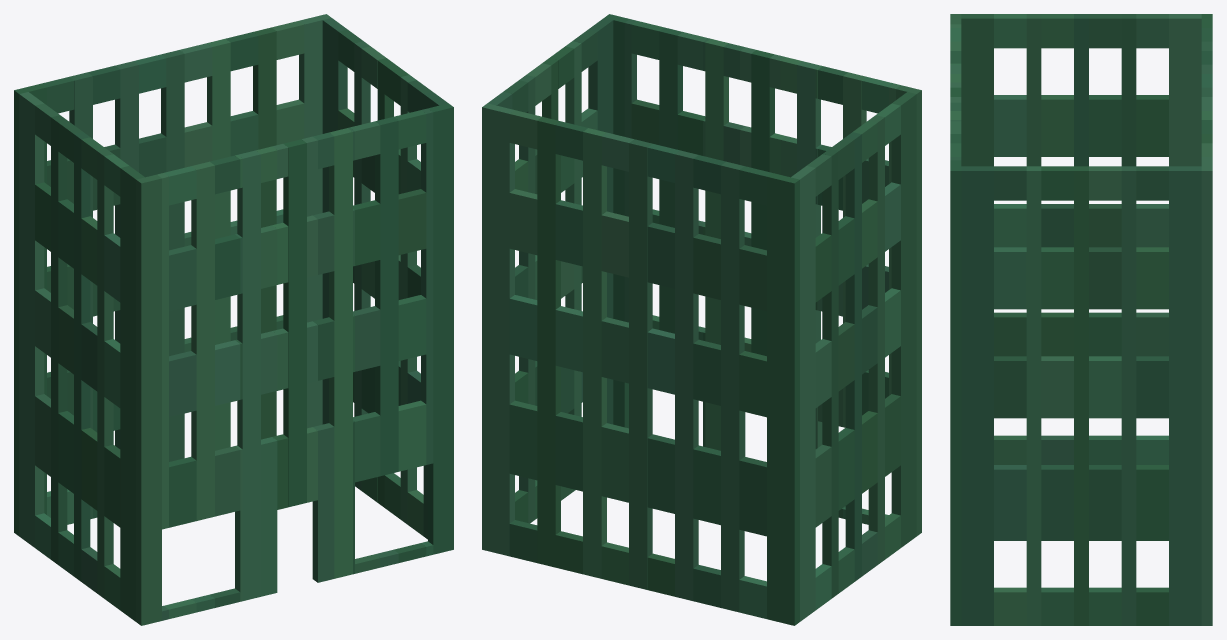
The model's file is Apartment_Green_Walls.glb.
The picture shows the model from 3 angles, left to right: view 1: azimuth 30°, elevation 25°; view 2: azimuth 150°, elevation 25°; view 3: azimuth 270°, elevation 25°; orthographic projection. The views are drawn at different scales.
Visible parts, largest first — view 1: Apartment_Green_Walls; view 2: Apartment_Green_Walls; view 3: Apartment_Green_Walls.
Part boxes in pixels (x1=…): Apartment_Green_Walls: x1=14, y1=14, x2=453, y2=625; Apartment_Green_Walls: x1=482, y1=14, x2=921, y2=625; Apartment_Green_Walls: x1=950, y1=14, x2=1212, y2=625.
Size of the model in its own units: 34 by 46 by 24.
